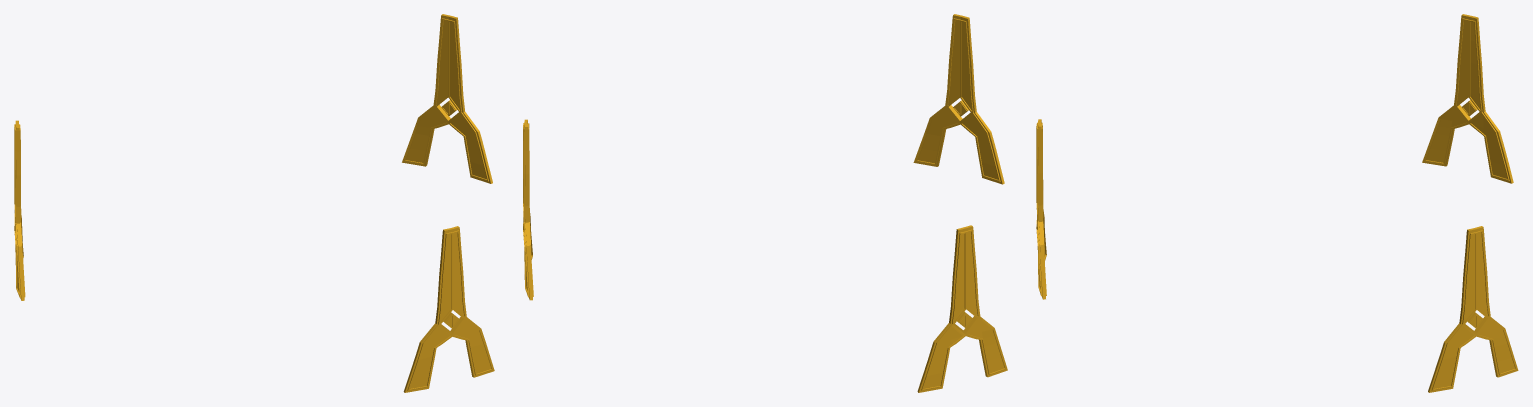
File: gold_fence2.fbx
3 views of the same model, side by side, from view 1: azimuth 30°, elevation 25°; view 2: azimuth 150°, elevation 25°; view 3: azimuth 270°, elevation 25° (orthographic).
Parts seen in each view (by area): view 1: Plane.004; view 2: Plane.004; view 3: Plane.004.
Part boxes in pixels (<box>): Plane.004: <box>14,14,494,392</box>; Plane.004: <box>523,14,1007,392</box>; Plane.004: <box>1036,14,1518,392</box>.
Bounding box in the file's own units: 2372 × 2700 × 840.
